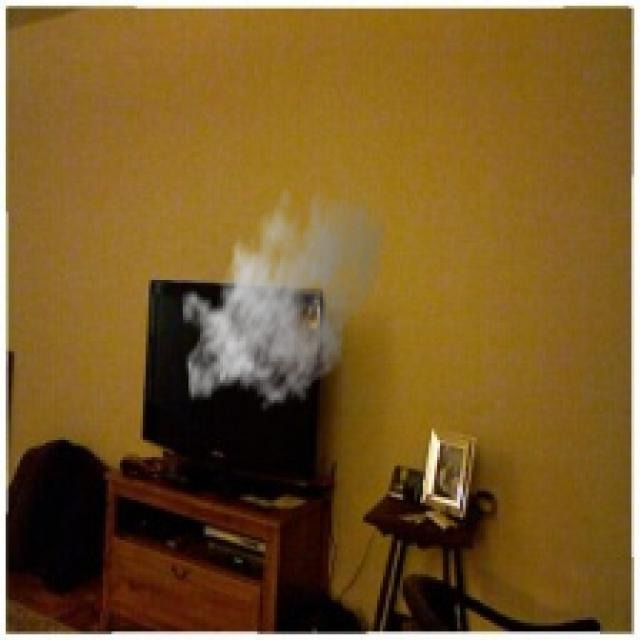smoke: (180, 172, 389, 414)
